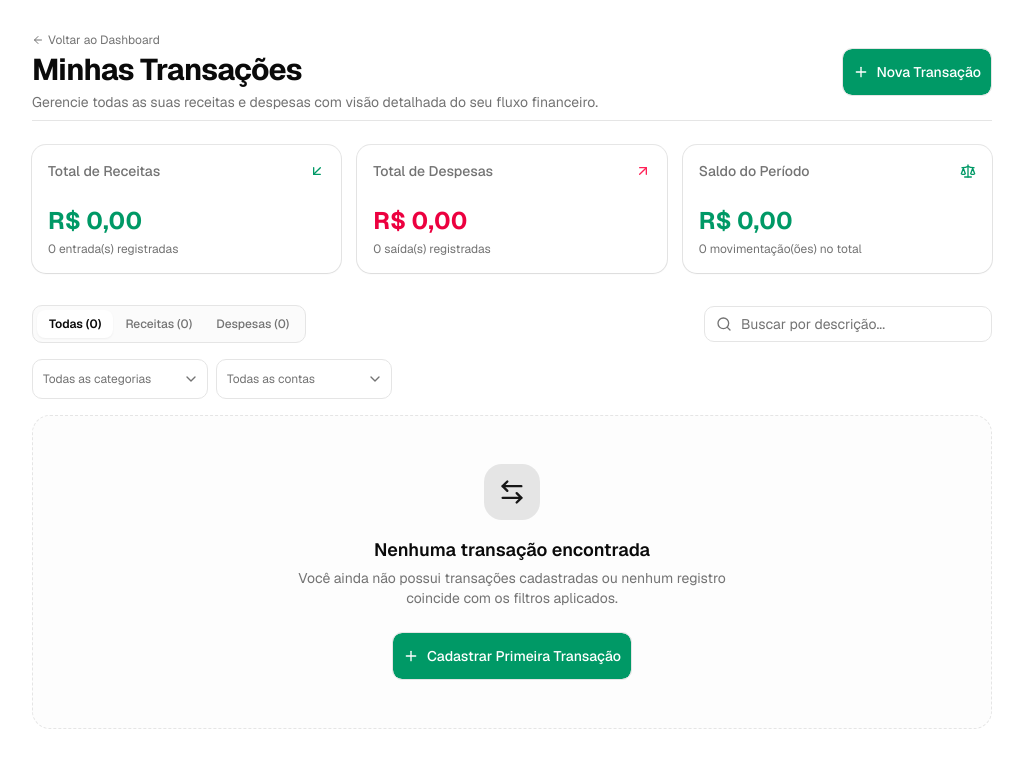
Test case: TransactionsView Component › deve abrir o modal de nova transação ao clicar no botão Nova Transação
Check: the element with test id "transactions-empty-state" is shown, box [32, 415, 992, 729]
Click the button with test id "open-create-transaction-button" at (917, 72), box [842, 48, 992, 96]
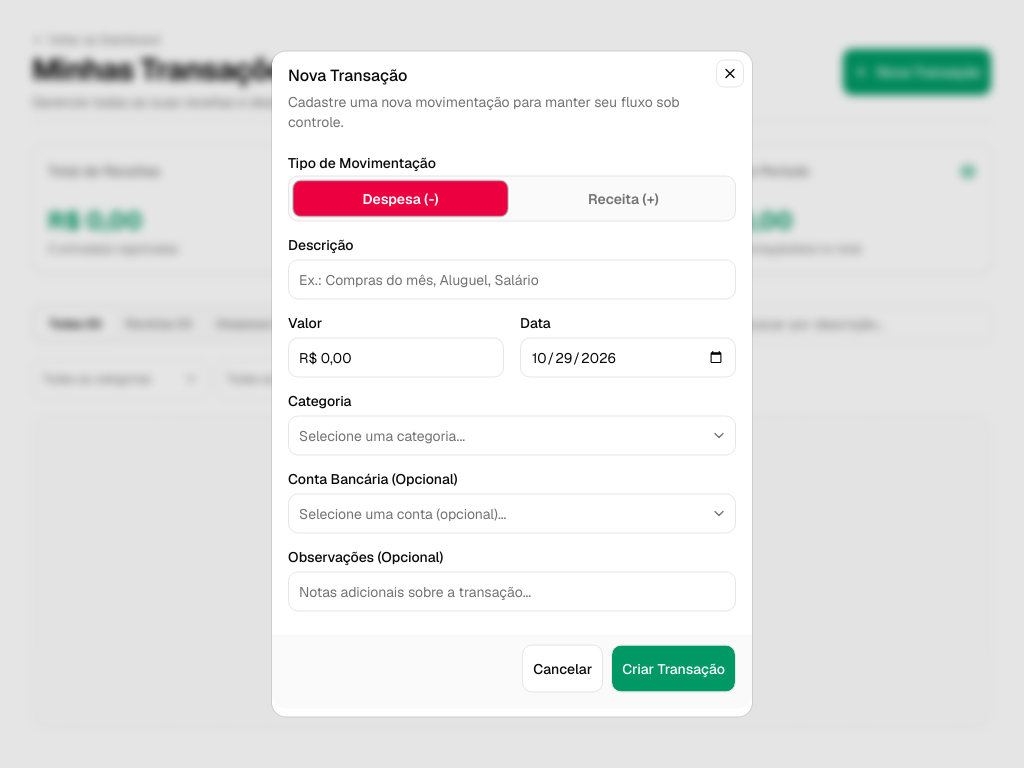
Check: the dialog with test id "transaction-form-dialog" is shown, box [272, 52, 752, 716]
Check: the heading "Nova Transação" is shown, box [288, 64, 407, 86]
